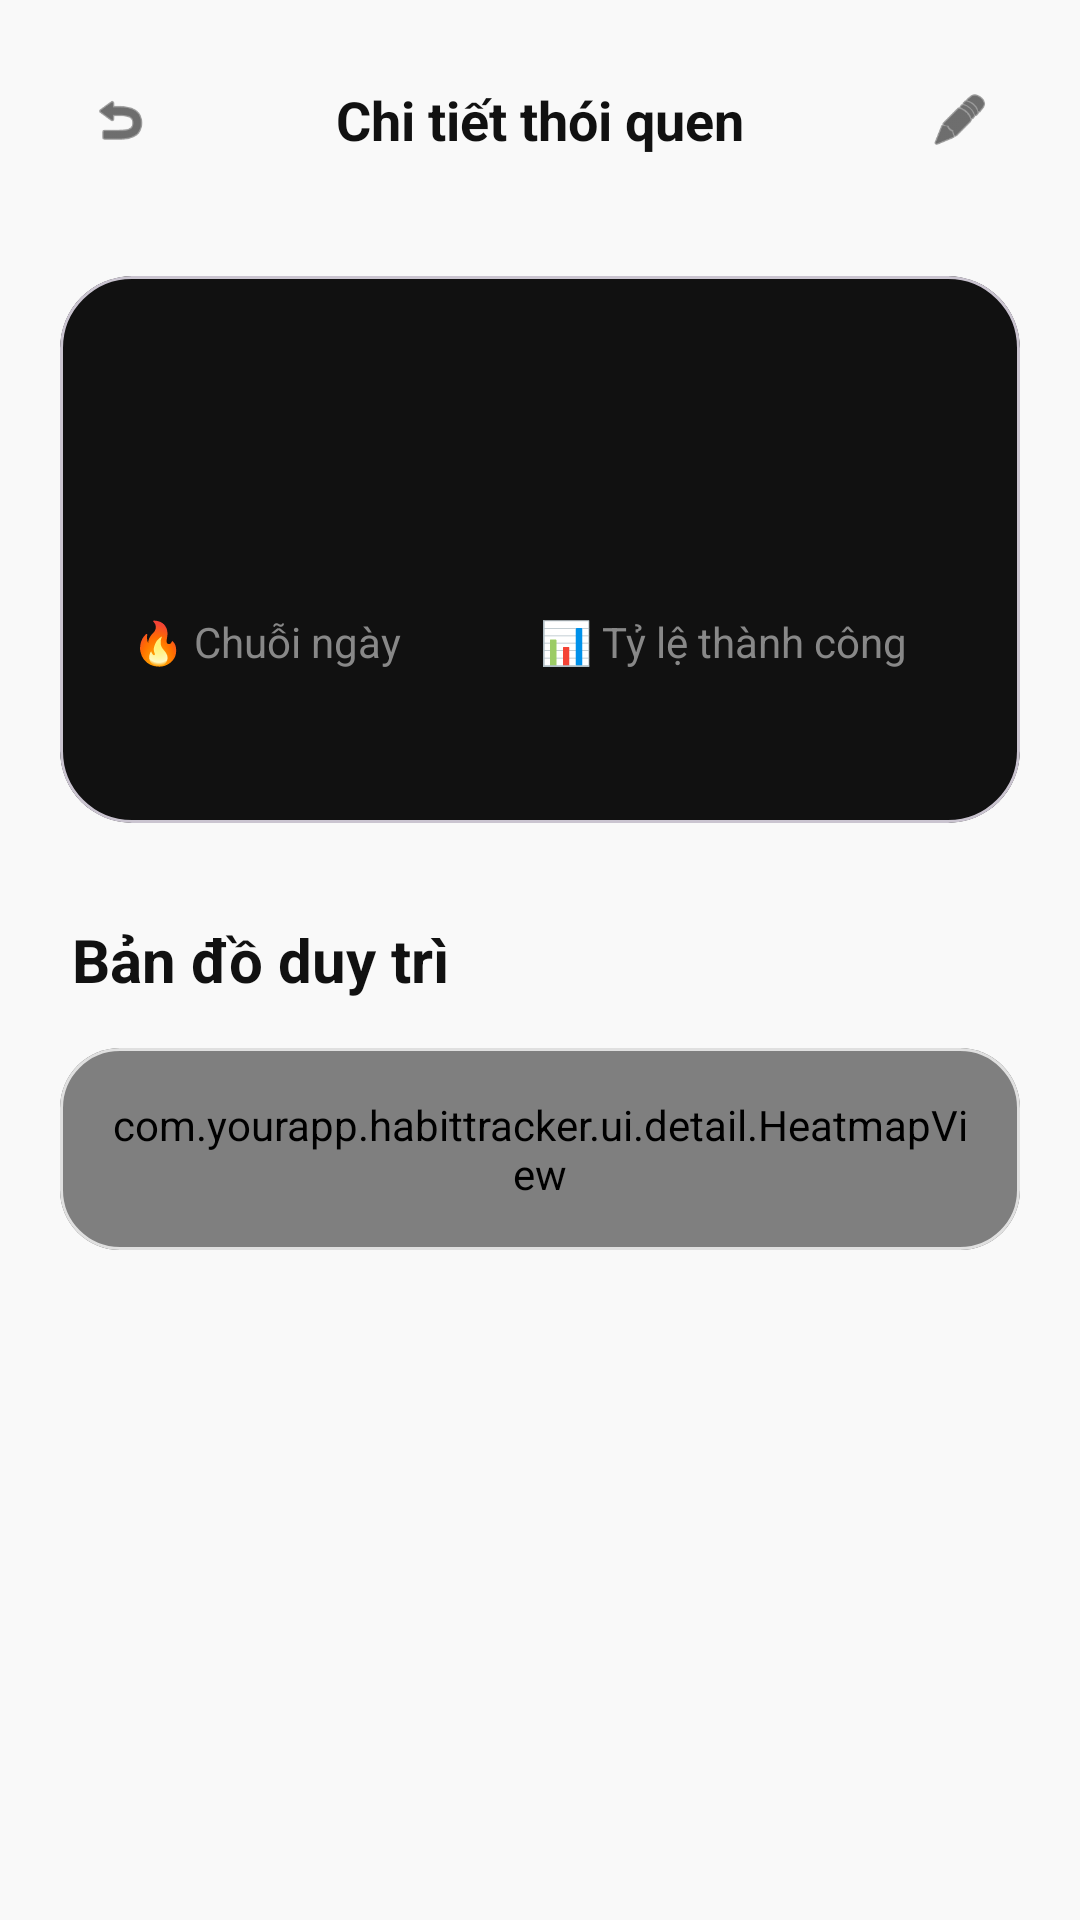

Named icons in this screenshot (1080 × 1920) and their centers, point (x, y):
edit: point (959, 119)
revert: point (120, 120)
